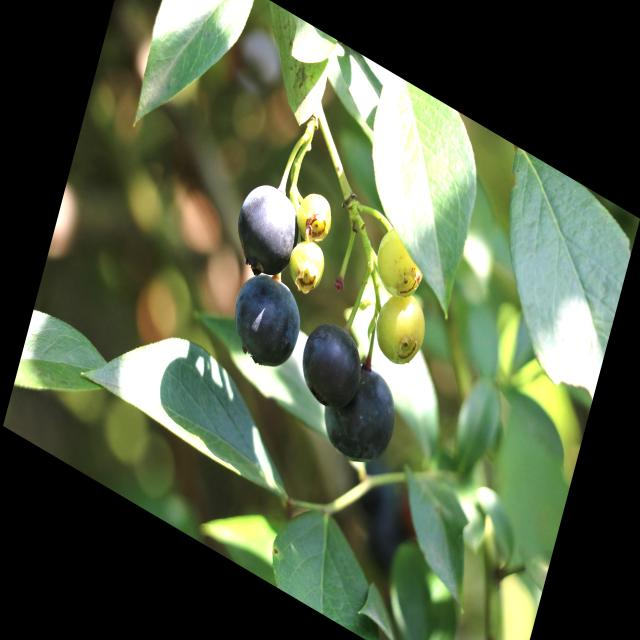blueberry: (222, 159, 312, 293), (314, 347, 406, 478), (224, 259, 310, 384), (293, 308, 372, 424)
blueberry-unripe: (368, 280, 433, 374), (369, 218, 430, 304), (289, 180, 337, 253), (283, 229, 332, 299)
